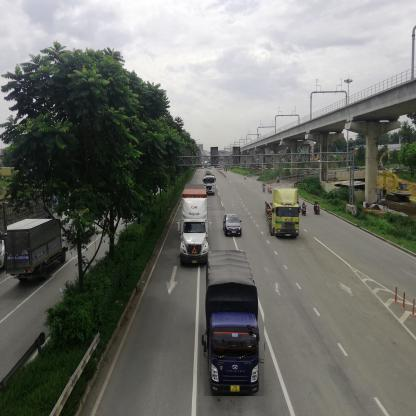car: (225, 215, 242, 240)
container: (179, 185, 209, 267), (268, 188, 300, 237)
motorbike: (315, 202, 321, 216), (303, 202, 307, 215), (263, 185, 267, 193), (270, 186, 273, 195)
truck: (205, 252, 265, 398), (8, 220, 75, 277), (207, 169, 217, 197)
